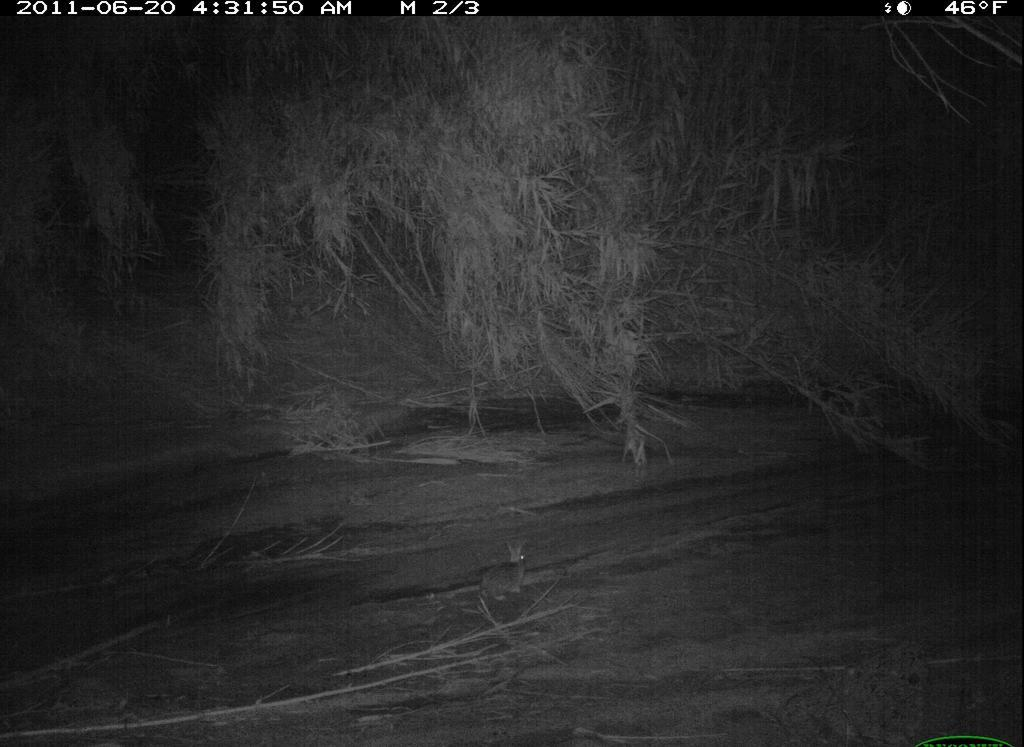rabbit: (472, 536, 537, 606)
